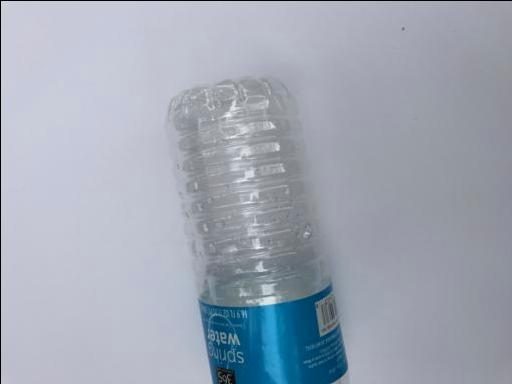PET: (163, 73, 351, 383)
plastic: (163, 73, 351, 383)
water: (163, 73, 351, 383)
